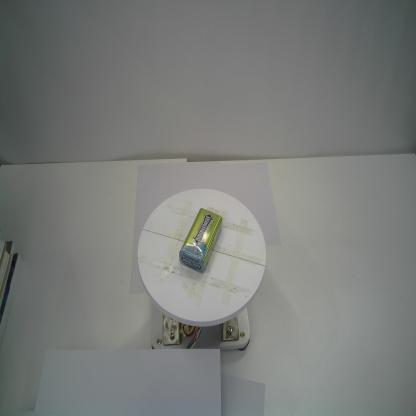Gum: (178, 206, 223, 274)
